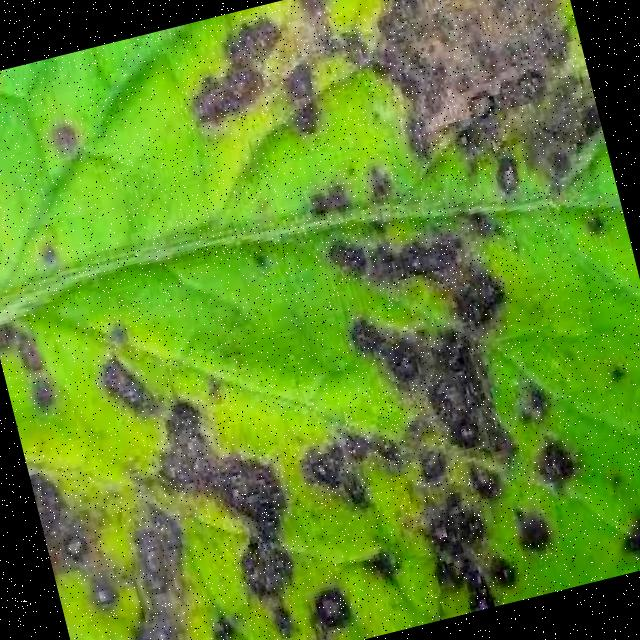Septoria_Blight_on_lettuce: (230, 162, 593, 636)
